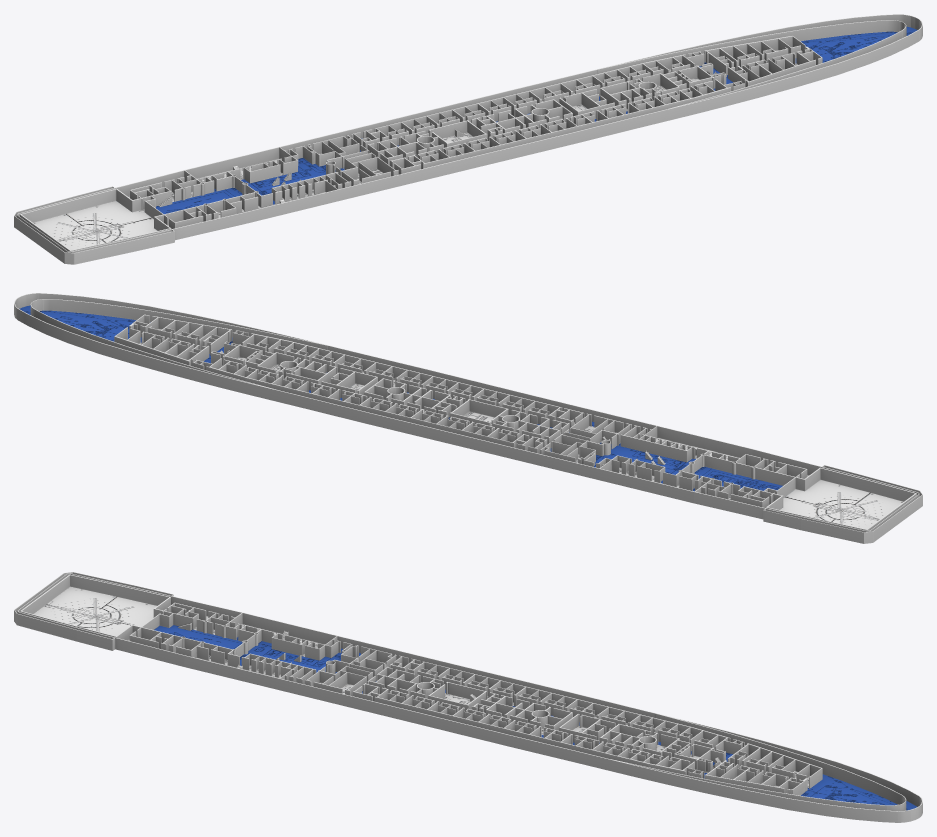
File: jianjiaBan.obj
The picture shows the model from 3 angles, top to bottom: view 1: azimuth 30°, elevation 25°; view 2: azimuth 150°, elevation 25°; view 3: azimuth 330°, elevation 25°; orthographic projection.
Parts seen in each view (by area): view 1: pCube470_未命名; view 2: pCube470_未命名; view 3: pCube470_未命名.
Boxes of the visible parts, x1,y1,x2,y2 form: pCube470_未命名: (14,14,922,264); pCube470_未命名: (14,293,922,543); pCube470_未命名: (14,572,922,822).
Bounding box in the file's own units: 25.99 × 0.3215 × 3.15.
1 material, 1 textured.
